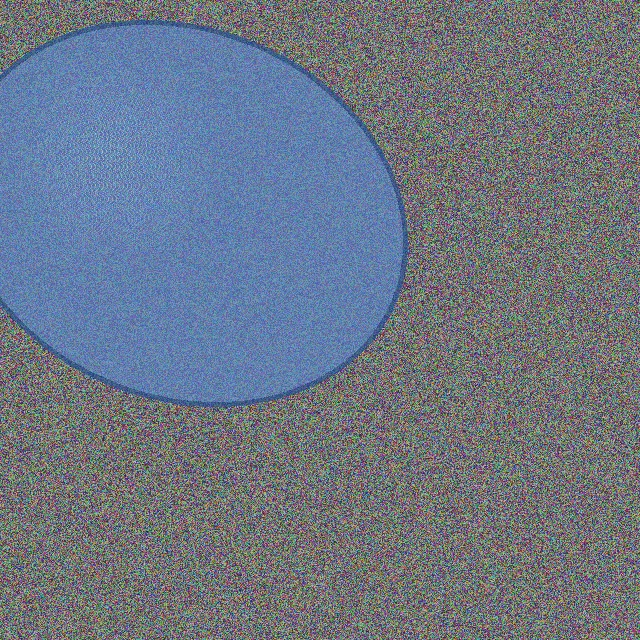lens: (0, 22, 405, 404)
